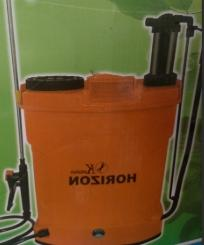PULVERISATEUR: (0, 11, 202, 245)
